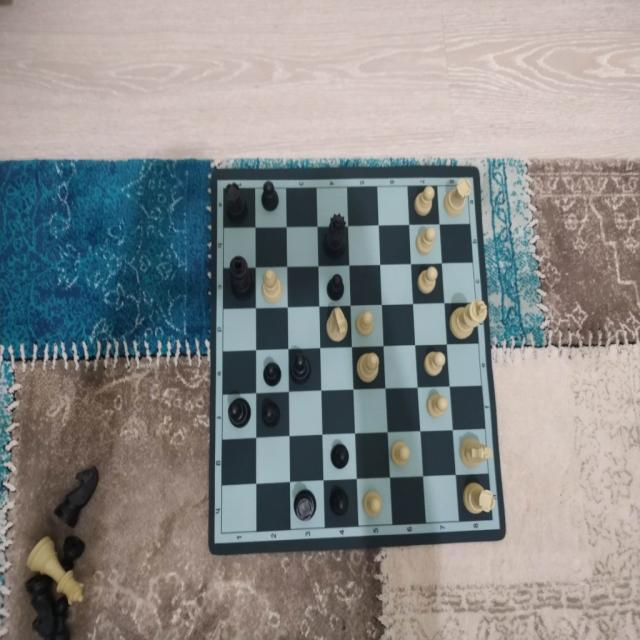chess-table-corners: (211, 518, 235, 549), (486, 514, 504, 535), (212, 174, 226, 194), (470, 171, 478, 182)
